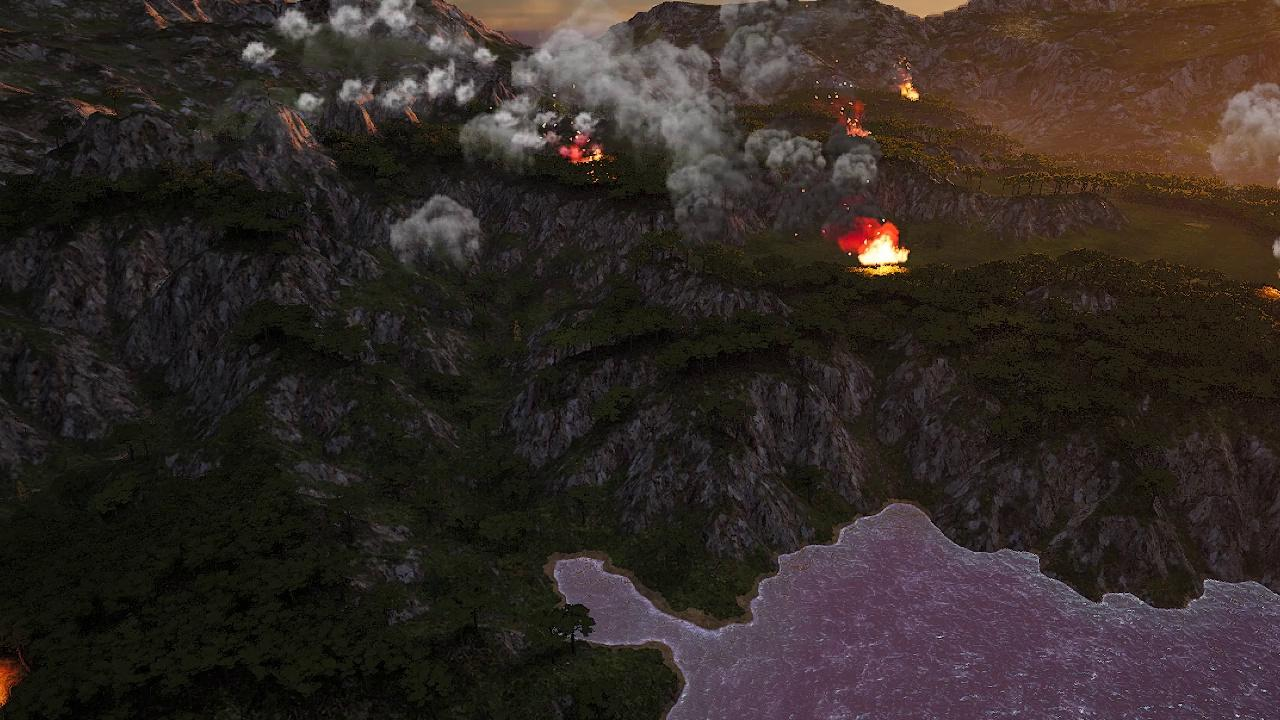fire: (851, 223, 910, 267), (838, 98, 871, 140), (557, 137, 605, 165), (896, 59, 922, 103), (1262, 285, 1280, 300)
smoke: (240, 3, 889, 242), (383, 194, 486, 272)
